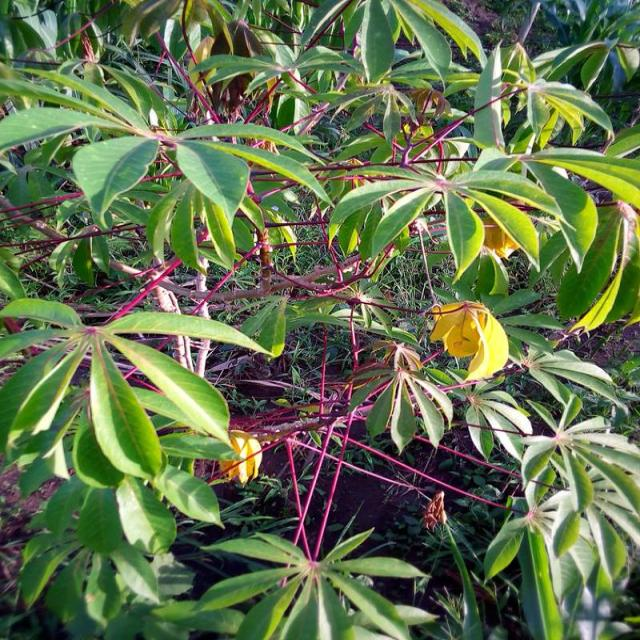cassava leaf: (2, 1, 639, 638), (90, 334, 164, 480), (72, 134, 160, 232)
